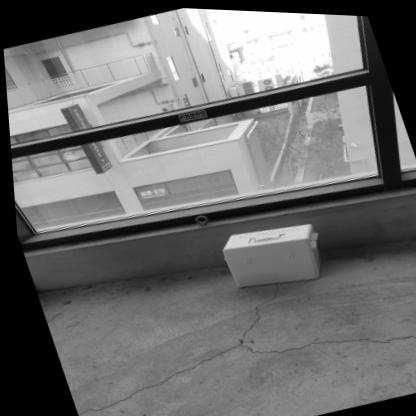DDL: (212, 209, 331, 296)
